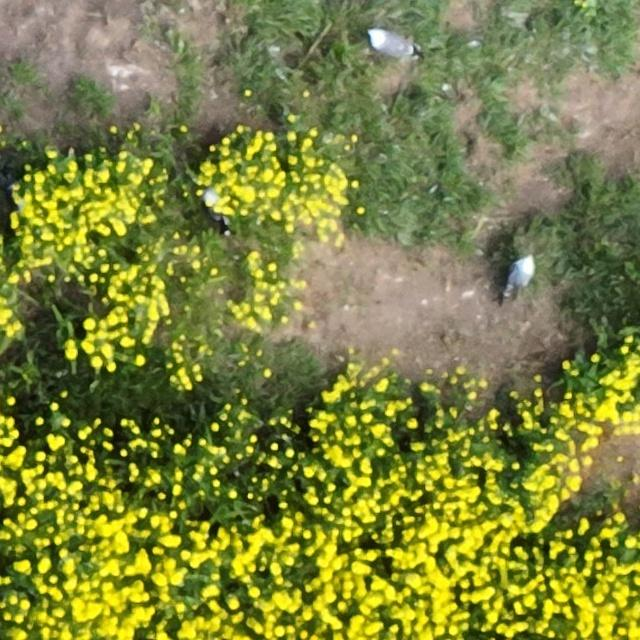umineko: (368, 32, 412, 57), (506, 257, 533, 293), (204, 190, 228, 229)
